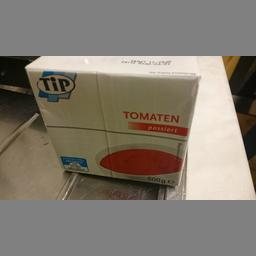tomato_sauce: (23, 55, 201, 185)
